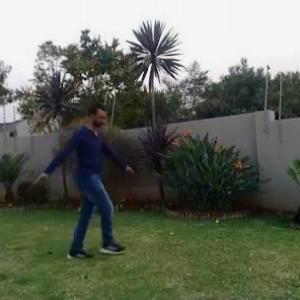land: (34, 95, 143, 273)
